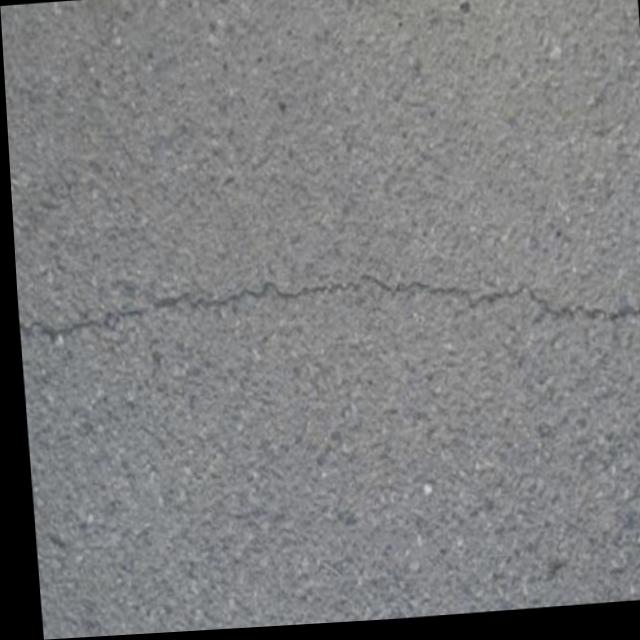Crack: (13, 256, 640, 378)
